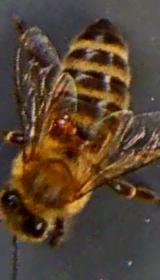varroa_mite: (50, 108, 84, 136)
